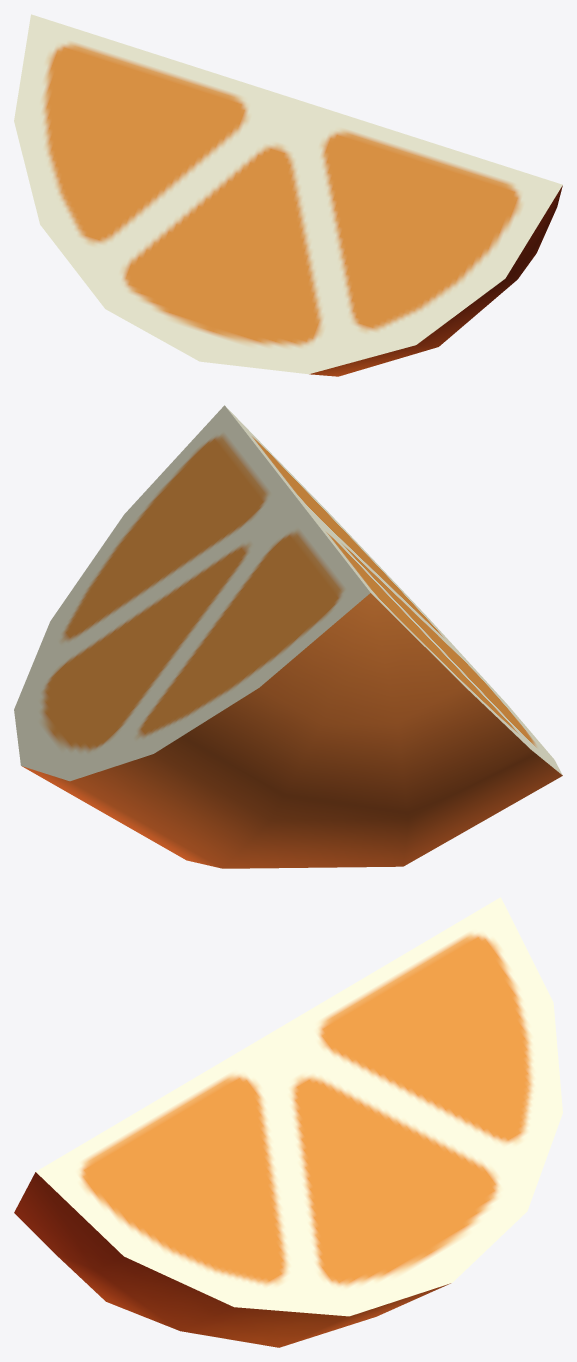
Rendered from m_OrangeCake01_Deco.fbx.
3 views of the same model, one above another, from view 1: azimuth 30°, elevation 25°; view 2: azimuth 150°, elevation 25°; view 3: azimuth 270°, elevation 25° (orthographic). The views are drawn at different scales.
Parts seen in each view (by area): view 1: m_OrangeCake01_Deco; view 2: m_OrangeCake01_Deco; view 3: m_OrangeCake01_Deco.
Boxes of the visible parts, left/top/right/bottom form: m_OrangeCake01_Deco: left=14, top=14, right=562, bottom=376; m_OrangeCake01_Deco: left=14, top=405, right=562, bottom=868; m_OrangeCake01_Deco: left=14, top=897, right=562, bottom=1347.
Size of the model in its own units: 6.31 by 4.32 by 6.59.
